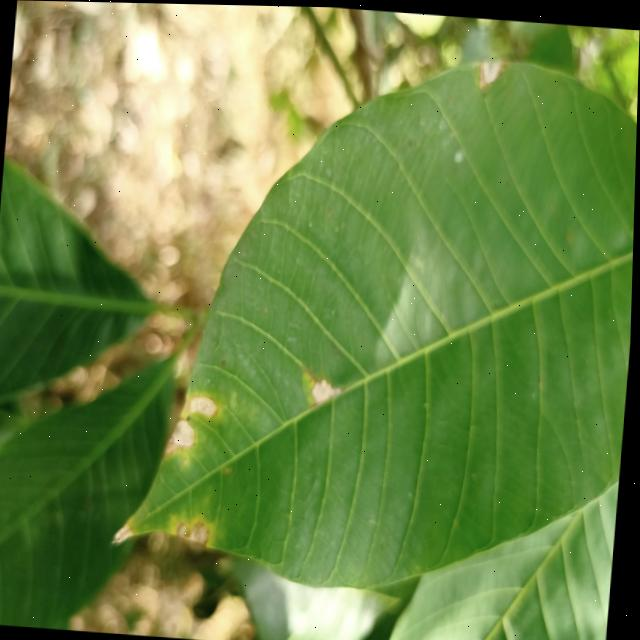Leaf-Blight: (166, 418, 198, 455), (178, 518, 214, 544), (312, 378, 343, 405), (191, 394, 221, 416), (114, 521, 137, 545)
